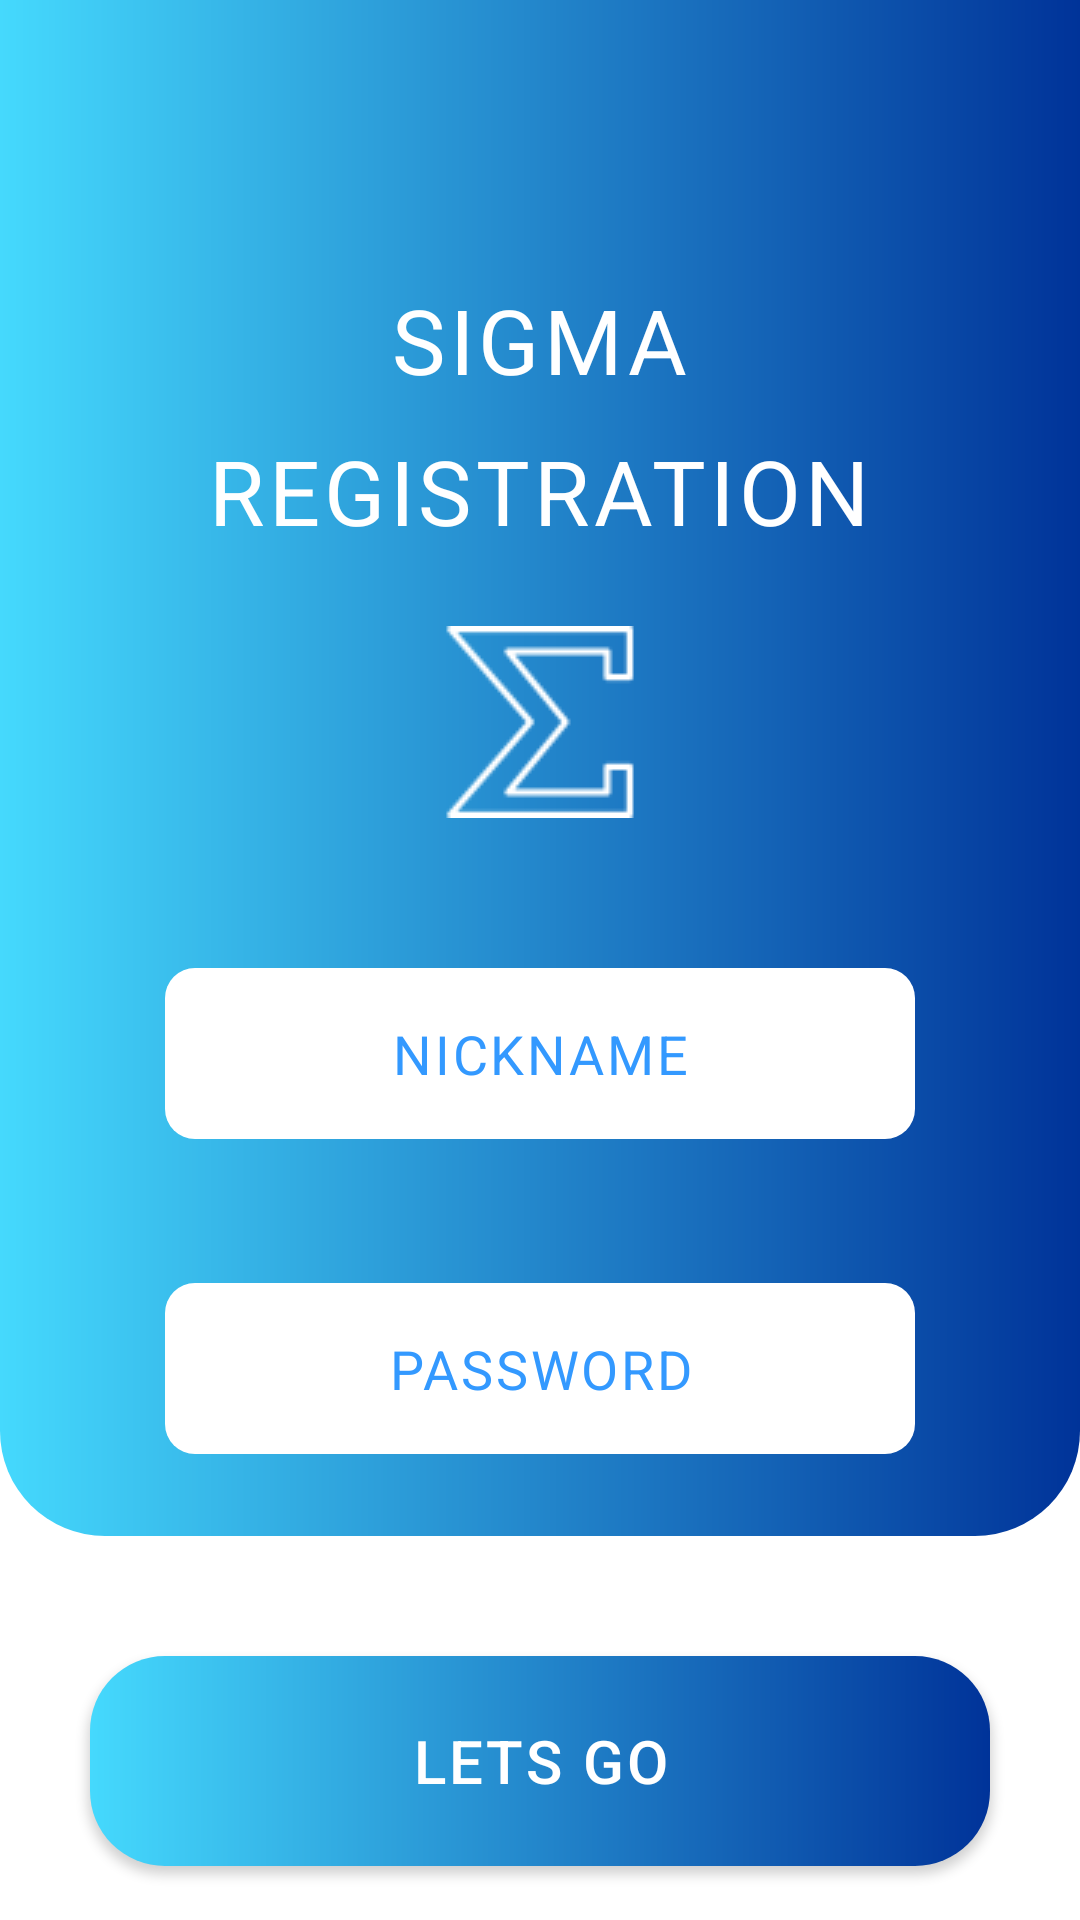

Where to tap for icons on this 1080x1920 app screen, as [x,y]:
sum: [541,722]
